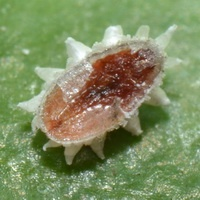insect: (18, 25, 175, 164)
